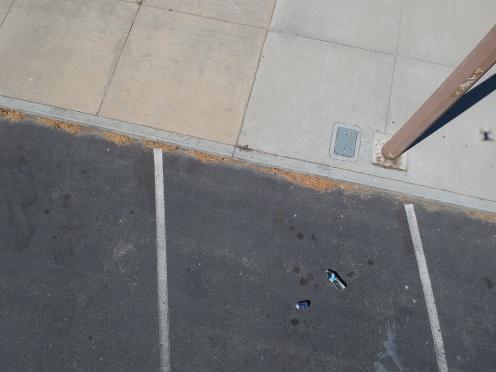bottle: (322, 264, 349, 295)
can: (290, 297, 314, 312)
